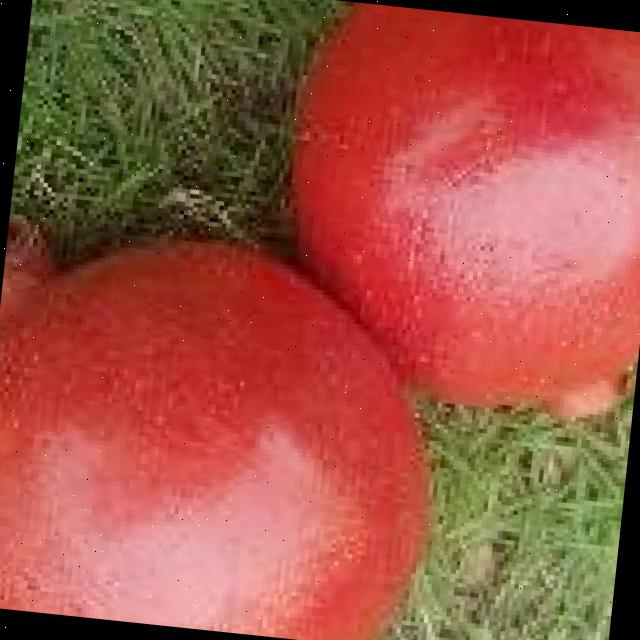Good_Pomegranate-50-60-days: (0, 1, 640, 640)
